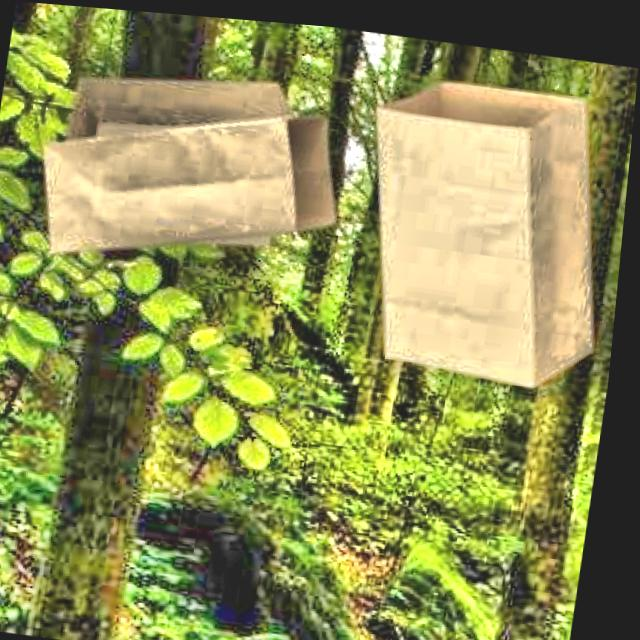Paper-bag: (342, 44, 638, 400), (9, 66, 357, 305), (14, 45, 312, 261)
